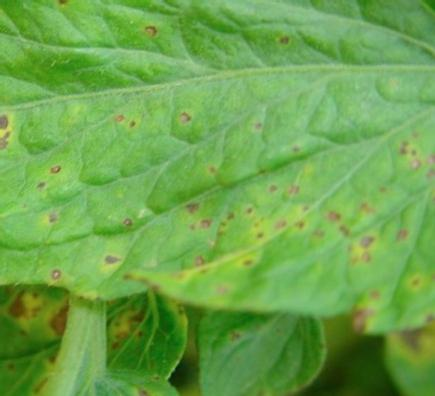Tomato leaf bacterial spot: (0, 0, 435, 345)
